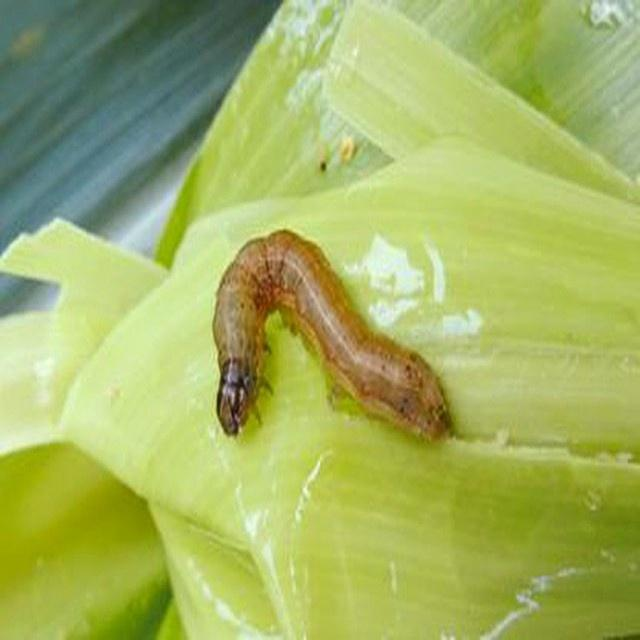gusano_cogollero: (210, 225, 457, 445)
